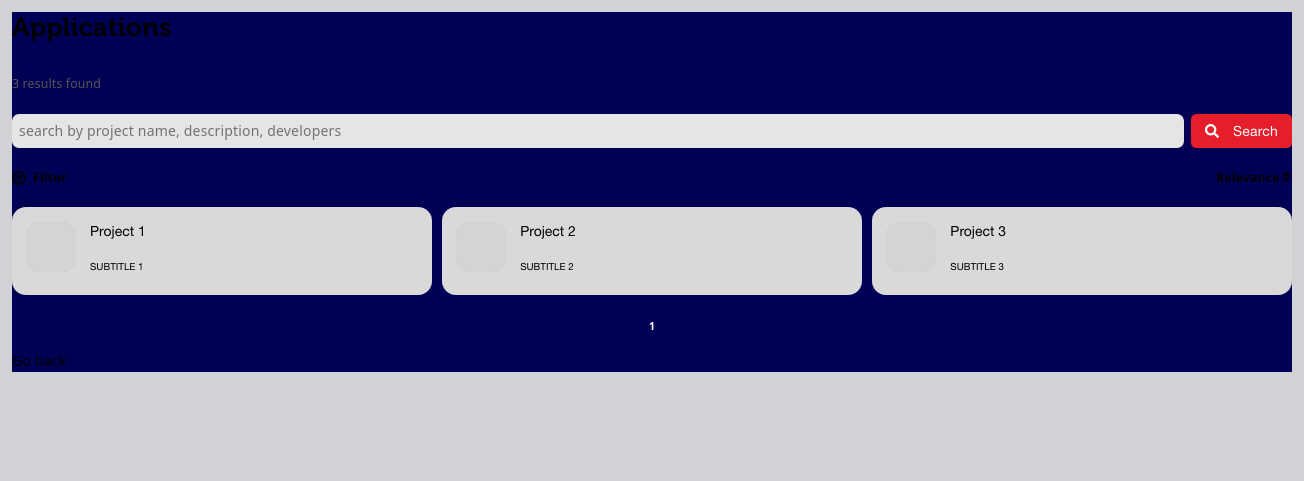
Test: SearchResultsPage › filters › are hidden until the Filter button is clicked, and hidden again when clicked twice
Check: the text "3 results found" is shown, box [12,75,101,92]
Check: the button "Games" is not shown
Step 1. Click the button "Filter" → point(39, 178), box [12,169,66,186]
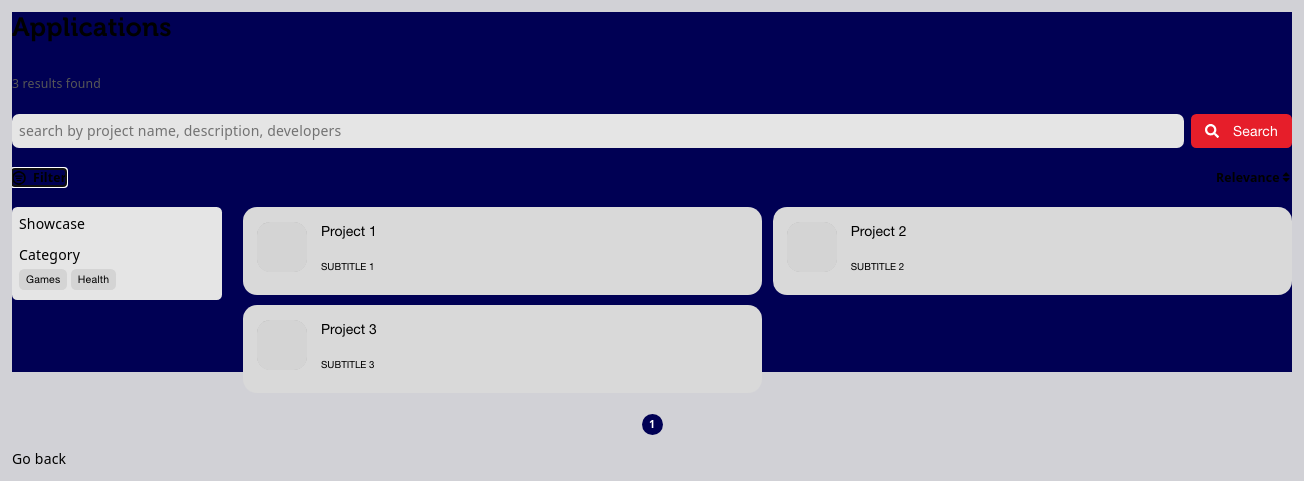
Check: the button "Filter" is expanded
Check: the button "Games" is shown, box [19,269,67,290]
Step 2. Click the button "Filter" → point(39, 178), box [12,169,66,186]
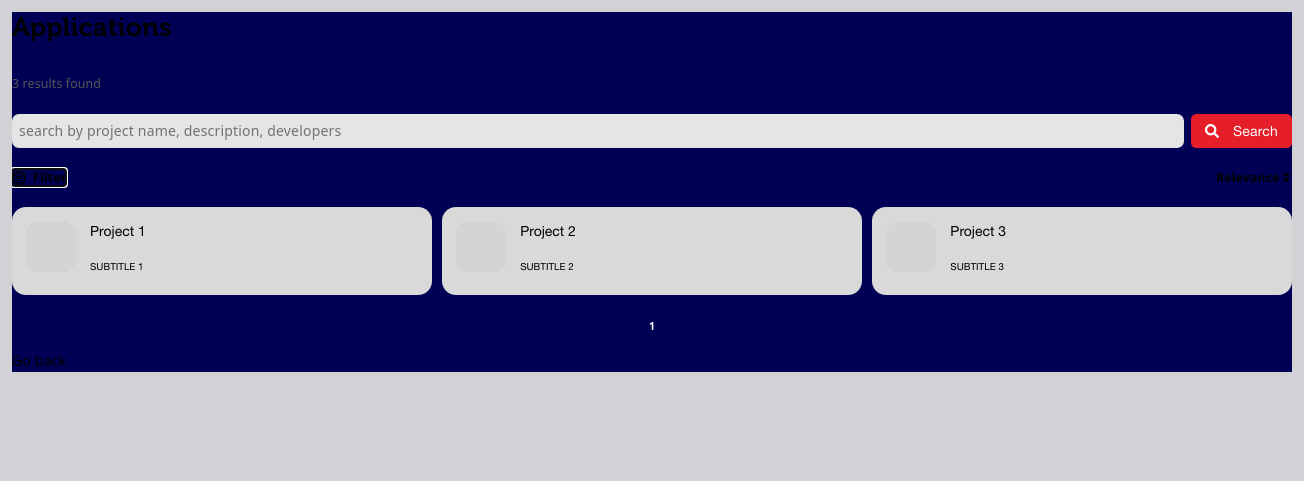
Check: the button "Games" is gone
